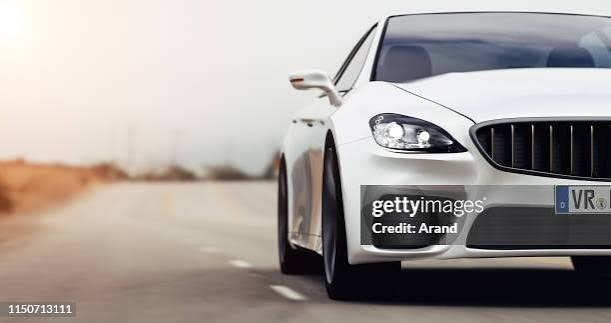car: (237, 16, 600, 308), (269, 9, 599, 295)
